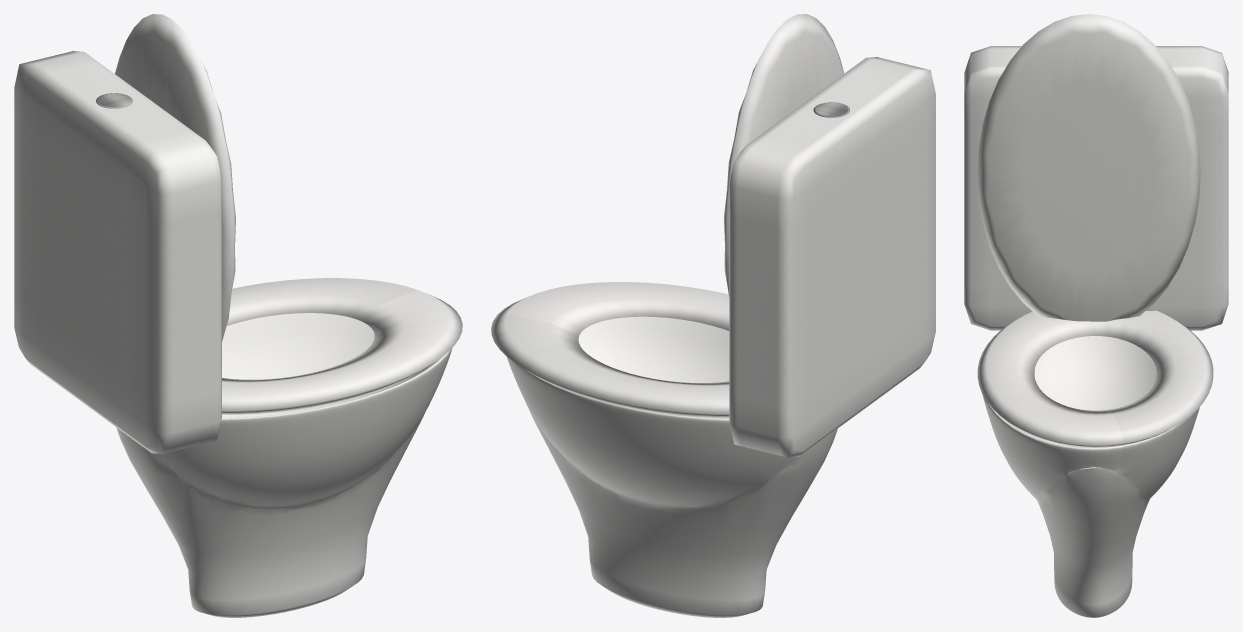
File: toilet 1.fbx
3 renders of one model, left to right at view 1: azimuth 30°, elevation 25°; view 2: azimuth 150°, elevation 25°; view 3: azimuth 270°, elevation 25°, orthographic. The views are drawn at different scales.
Parts seen in each view (by area): view 1: pCube1, polySurface1, pTorus1, pCylinder2; view 2: pCube1, polySurface1, pTorus1, pCylinder2; view 3: pCylinder2, polySurface1, pCube1, pTorus1.
Part boxes in pixels (x1,y1,x2,y2): pCube1: [14, 51, 221, 453]; polySurface1: [116, 313, 452, 617]; pTorus1: [222, 278, 462, 414]; pCylinder2: [115, 14, 235, 341]; pCube1: [729, 57, 935, 457]; polySurface1: [507, 316, 837, 617]; pTorus1: [491, 282, 729, 417]; pCylinder2: [724, 14, 844, 297]; pCylinder2: [977, 14, 1200, 321]; polySurface1: [982, 336, 1199, 617]; pCube1: [964, 46, 1228, 330]; pTorus1: [977, 310, 1213, 447].
Bounding box in the file's own units: 11.36 × 18.13 × 8.16.
